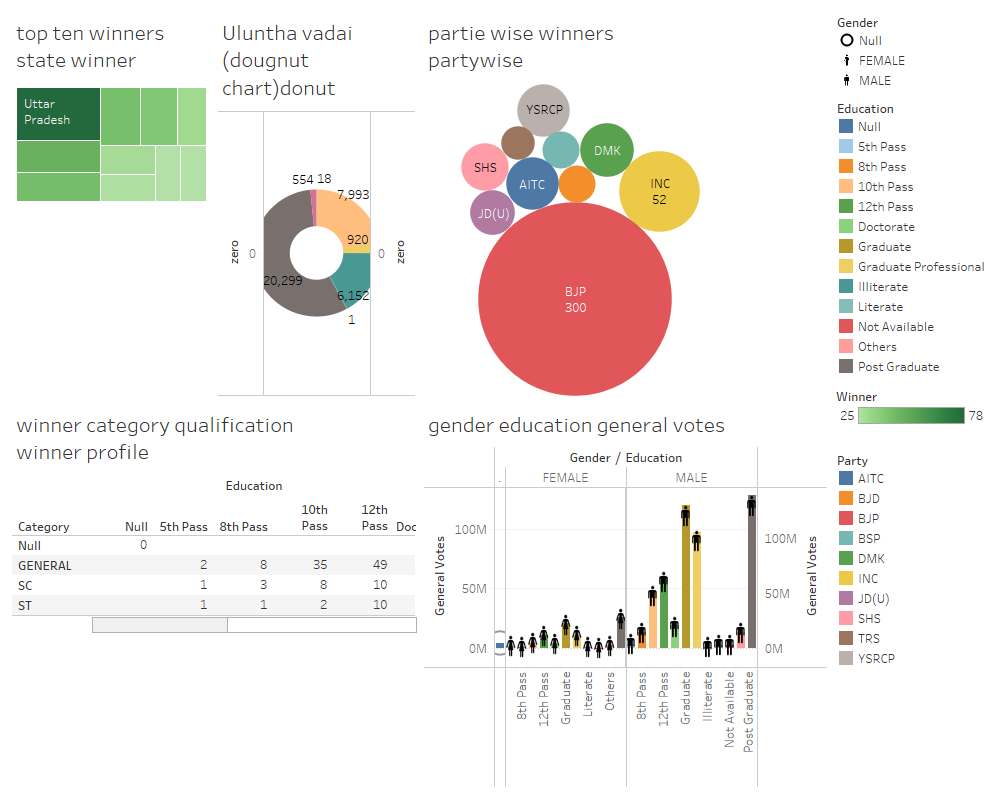

What the dashboard file says about the page in this screenshot:
{"tool":"tableau","page":{"name":"Dashboard 2","canvas":[1000,800],"ordinal":1},"visuals":[{"type":"worksheet","title":"state winner","mark":"Automatic","box":[8,8,206,392]},{"type":"worksheet","title":"donut","mark":"Pie","rows":["Calculation_605734160658624512","Calculation_605734160658624512"],"box":[214,8,206,392]},{"type":"worksheet","title":"partywise","mark":"Circle","box":[420,8,412,392]},{"type":"legend","title":"Sheet 4","param":"[federated.0i64tj6190rcs61asqhf51gzl9pc].[none:GENDER:nk]","box":[832,8,160,86]},{"type":"legend","title":"Sheet 4","param":"[federated.0i64tj6190rcs61asqhf51gzl9pc].[none:EDUCATION:nk]","box":[832,94,160,286]},{"type":"legend","title":"state winner","param":"[federated.0i64tj6190rcs61asqhf51gzl9pc].[sum:WINNER:qk]","box":[832,380,160,65]},{"type":"worksheet","title":"winner profile","mark":"Automatic","rows":["CATEGORY"],"cols":["EDUCATION"],"box":[8,400,412,392]},{"type":"worksheet","title":"Sheet 4","mark":"Automatic","rows":["GENERAL VOTES","GENERAL VOTES"],"cols":["GENDER","EDUCATION"],"box":[420,400,412,392]},{"type":"legend","title":"partywise","param":"[federated.0i64tj6190rcs61asqhf51gzl9pc].[none:PARTY:nk]","box":[832,445,160,226]}]}

Visuals, with their boxes in screenshot pixels (x1, y1, x2, y2), scaled from the page's 1000x800 canvas onto the 1000x800 screenshot:
"state winner" worksheet: (8,8,214,400)
"donut" worksheet (Pie marks): (214,8,420,400)
"partywise" worksheet (Circle marks): (420,8,832,400)
"Sheet 4" legend: (832,8,992,94)
"Sheet 4" legend: (832,94,992,380)
"state winner" legend: (832,380,992,445)
"winner profile" worksheet: (8,400,420,792)
"Sheet 4" worksheet: (420,400,832,792)
"partywise" legend: (832,445,992,671)
